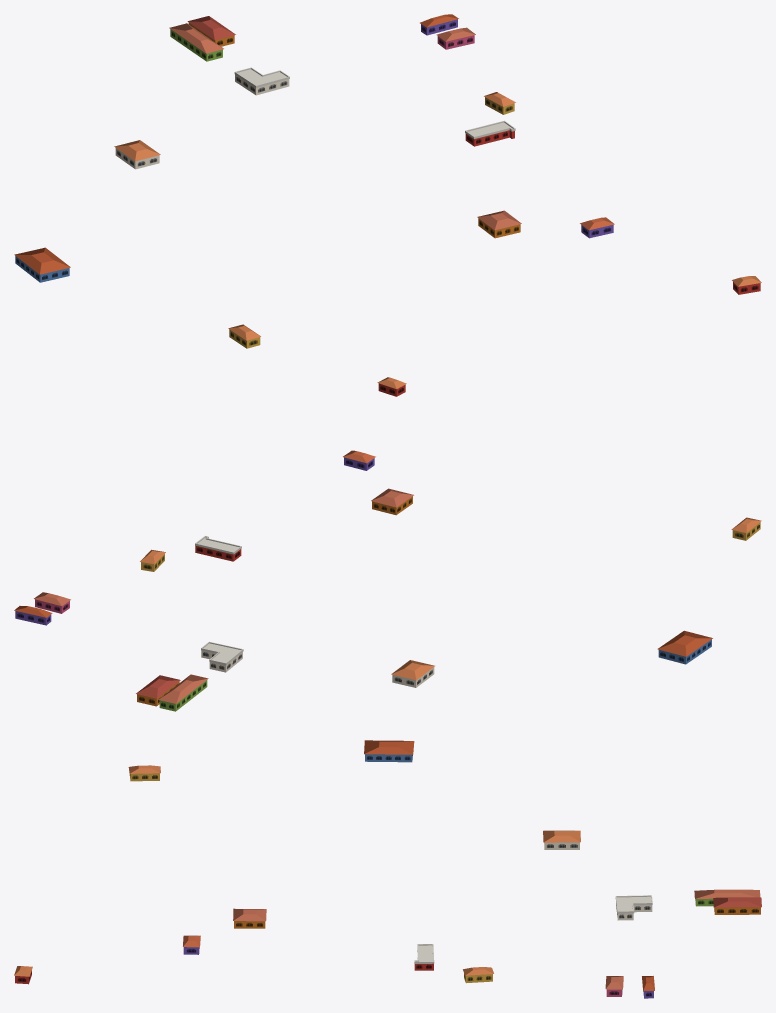
Rendered from msb_noord_m16_m12.glb.
3 renders of one model, top to bottom at view 1: azimuth 30°, elevation 25°; view 2: azimuth 150°, elevation 25°; view 3: azimuth 270°, elevation 25°, orthographic. The views are drawn at different scales.
Parts seen in each view (by area): view 1: msb_noord_m16_m12_lod0; view 2: msb_noord_m16_m12_lod0; view 3: msb_noord_m16_m12_lod0.
Boxes of the visible parts, x1,y1,x2,y2 form: msb_noord_m16_m12_lod0: (14, 14, 761, 348); msb_noord_m16_m12_lod0: (14, 377, 761, 711); msb_noord_m16_m12_lod0: (14, 740, 761, 998).
Size of what is drawn, in the model's own units: 242 by 10.51 by 299.
3 materials, 1 textured.
